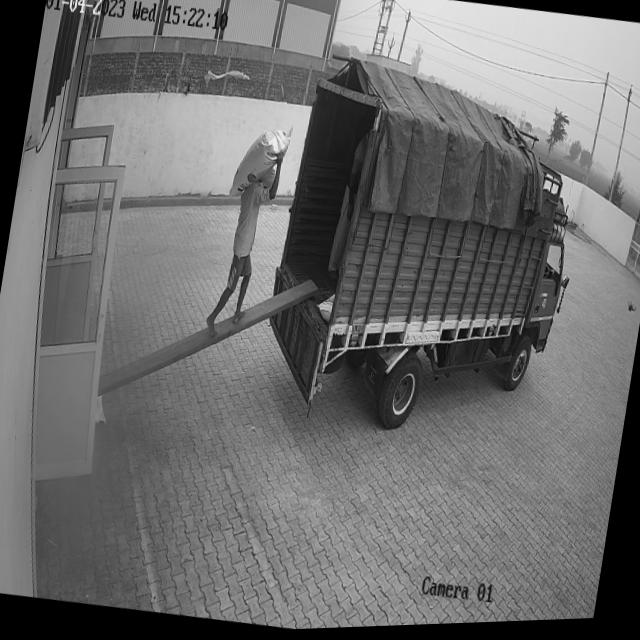sack: (228, 122, 293, 210)
